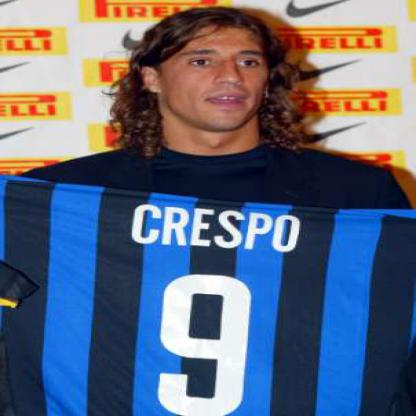face: (159, 10, 276, 133)
